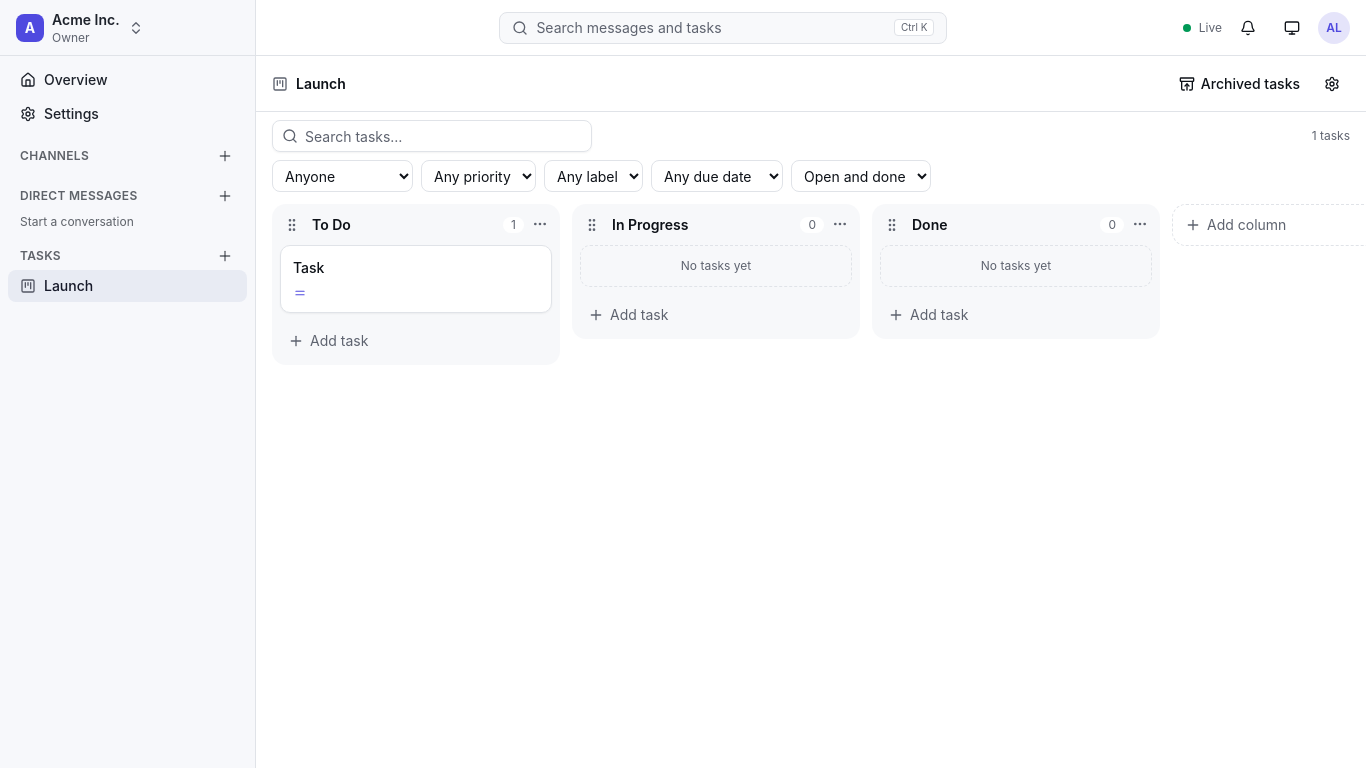
Test: boards › explains why a column with tasks cannot be deleted
This screenshot has width=1366, height=768.
Check: the heading "Launch" is shown, box top-left (296, 74), bottom-right (346, 94)
Click the button named "Column options for To Do".
click(540, 224)  # box top-left (528, 212), bottom-right (552, 236)
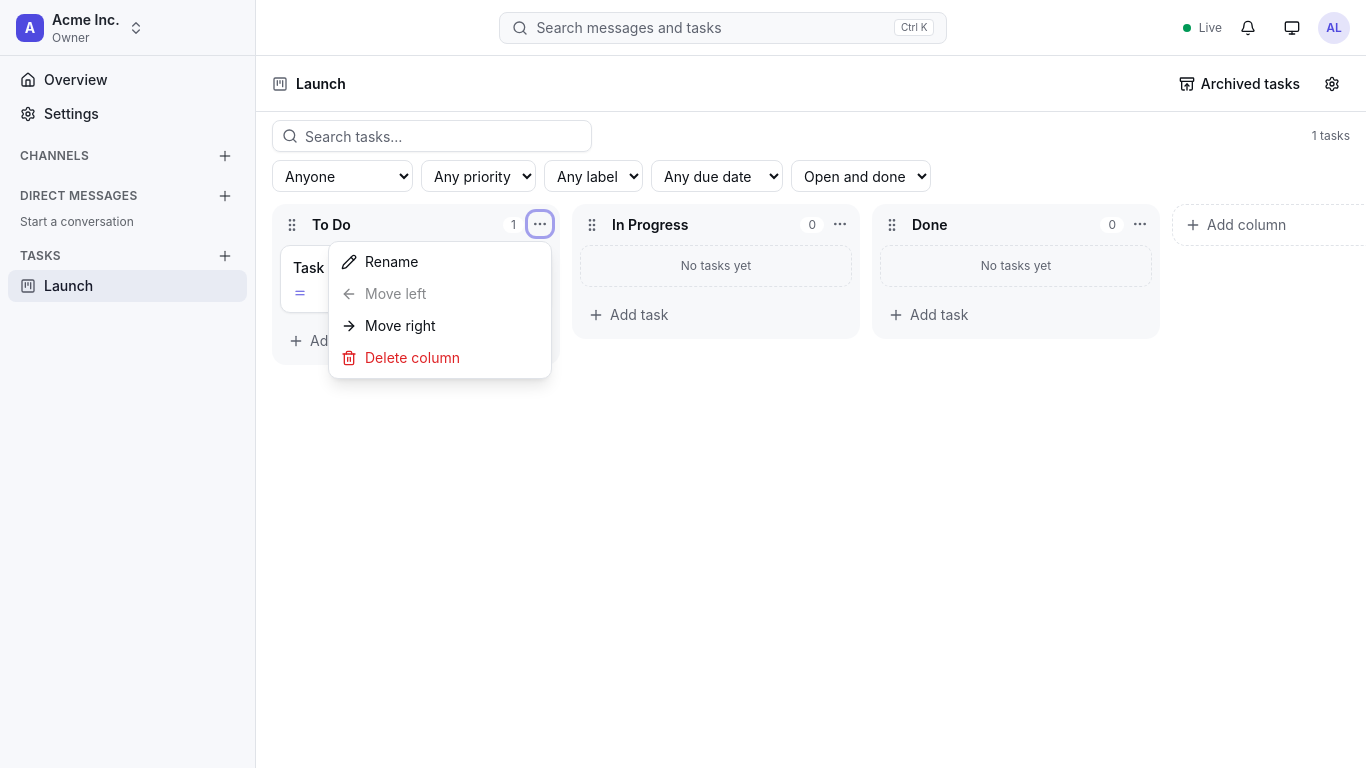
Click the button "Delete column".
click(440, 358)  # box top-left (333, 342), bottom-right (547, 374)
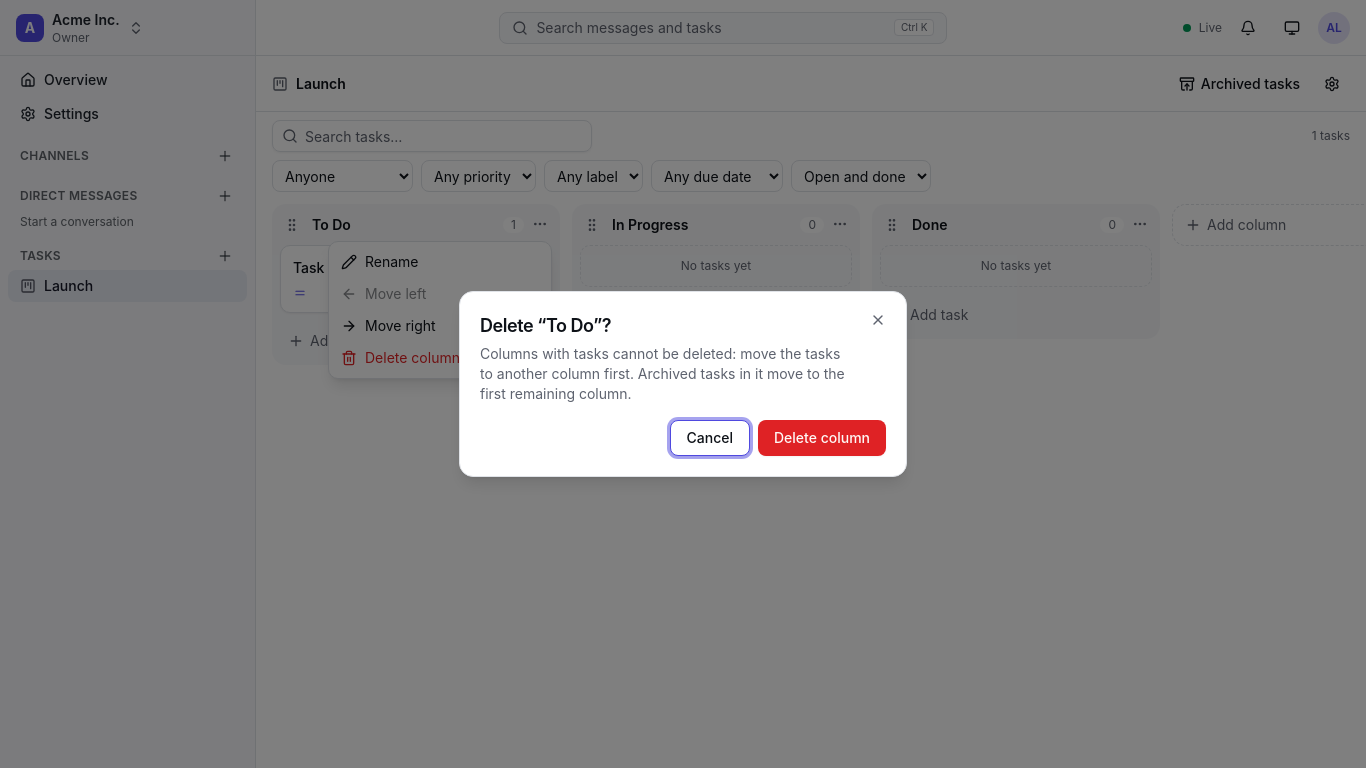
Click the button "Delete column".
click(822, 438)  # box top-left (758, 420), bottom-right (886, 456)
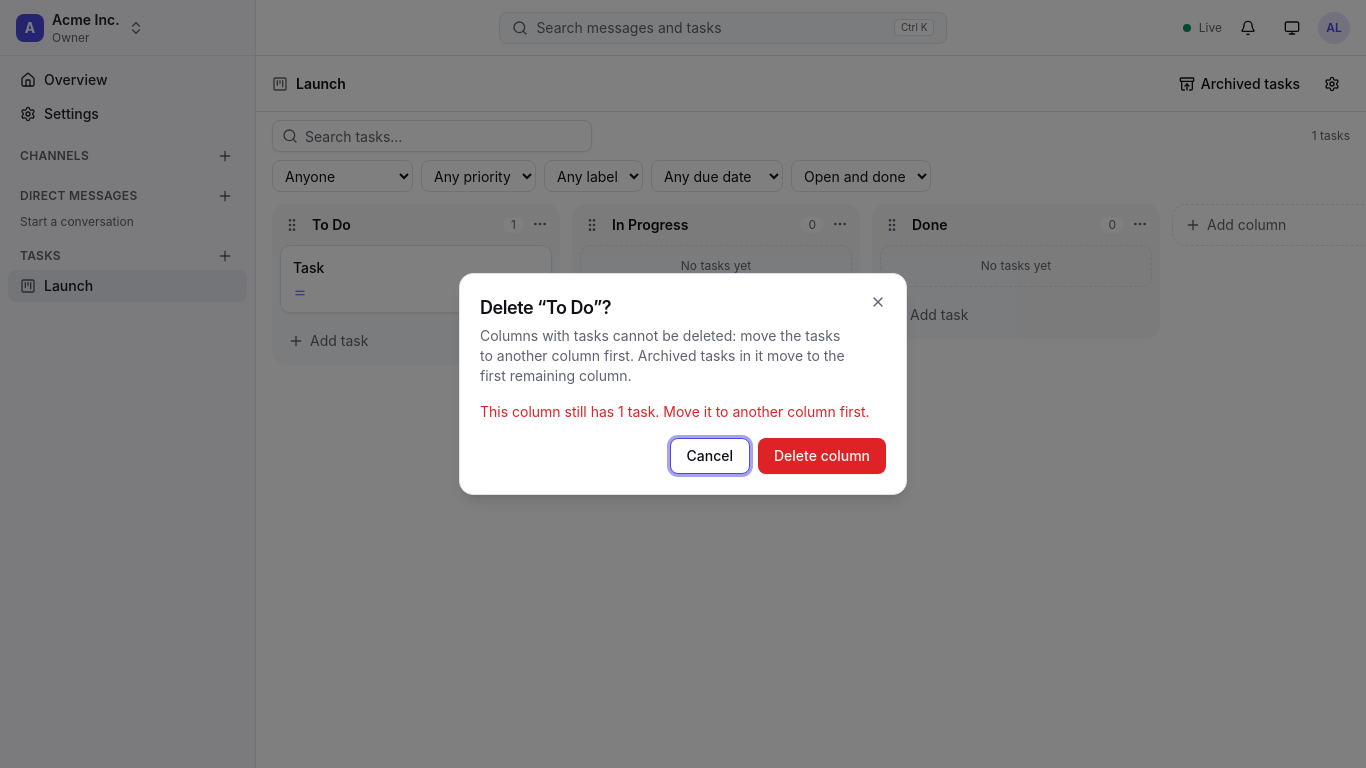
Check: the message shows "Move it to another column first", box top-left (480, 403), bottom-right (870, 420)
